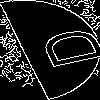D: (25, 25, 100, 74)
